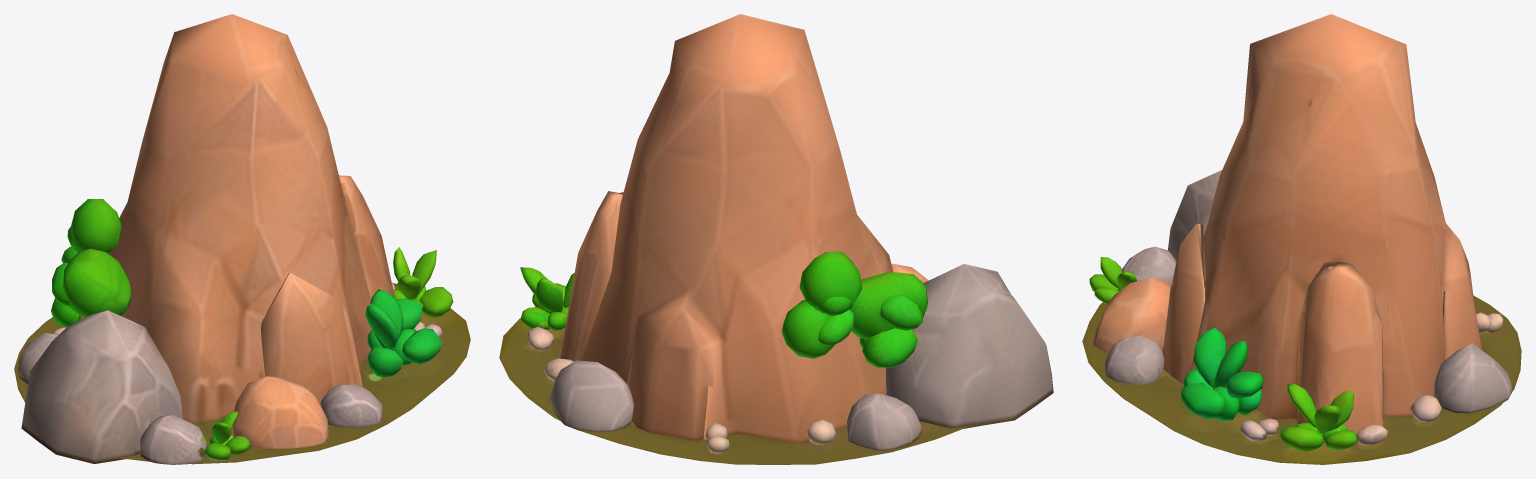
The model's file is r2c2_narrow_sandstone_spire.glb.
3 views of the same model, side by side, from view 1: azimuth 30°, elevation 25°; view 2: azimuth 150°, elevation 25°; view 3: azimuth 270°, elevation 25° (orthographic). The views are drawn at different scales.
Bounding box in the file's own units: 1 × 0.7324 × 0.8379.
1 material, 1 textured.
